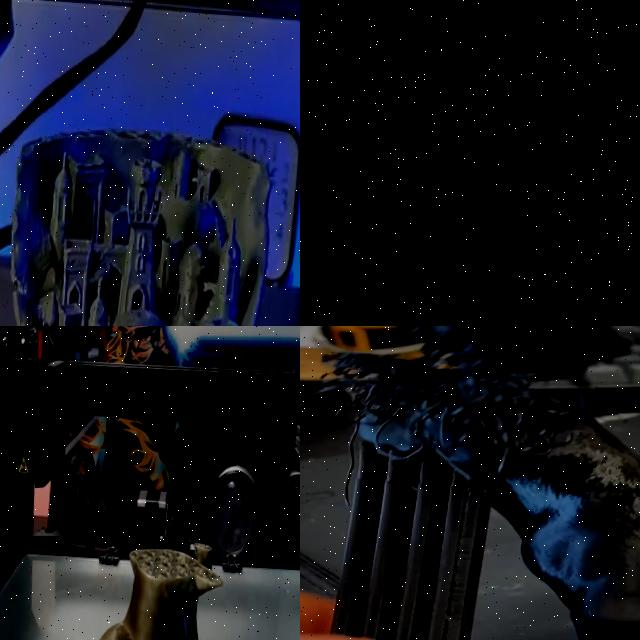spaghetti: (300, 326, 640, 463)
